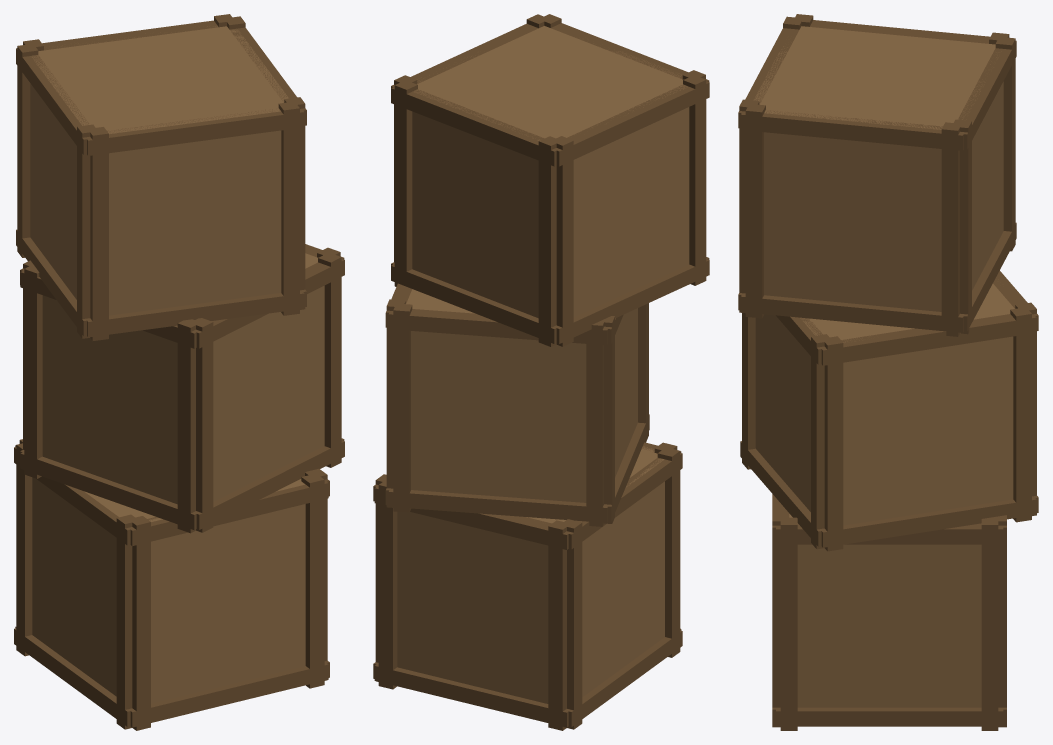
Rendered from crate_wood_stacked.glb.
3 renders of one model, left to right at view 1: azimuth 30°, elevation 25°; view 2: azimuth 150°, elevation 25°; view 3: azimuth 270°, elevation 25°, orthographic. The views are drawn at different scales.
Visible parts, largest first — view 1: Paint (×3), CrateSmall (×3); view 2: Paint (×3), CrateSmall (×3); view 3: Paint (×3), CrateSmall (×3).
Boxes of the visible parts, bbox=[...] form: Paint (×3): bbox=[30, 26, 324, 703]; CrateSmall (×3): bbox=[14, 14, 344, 730]; Paint (×3): bbox=[397, 26, 689, 703]; CrateSmall (×3): bbox=[373, 14, 709, 730]; Paint (×3): bbox=[753, 26, 1014, 707]; CrateSmall (×3): bbox=[738, 14, 1038, 730].
Size of the model in its own units: 1.32 by 2.74 by 1.24.
